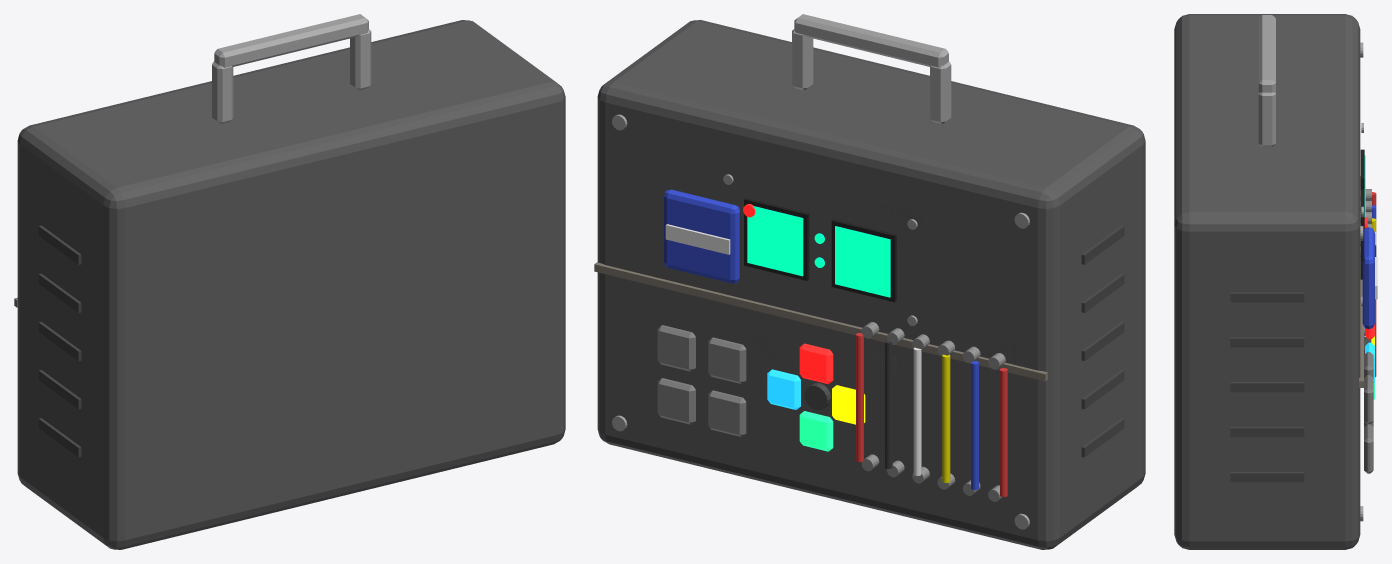
Rendered from KTANE BOMB.fbx.
The picture shows the model from 3 angles, left to right: view 1: azimuth 30°, elevation 25°; view 2: azimuth 150°, elevation 25°; view 3: azimuth 270°, elevation 25°; orthographic projection. The views are drawn at different scales.
Parts seen in each view (by area): view 1: Bomb_Body, Handle_Bar, Handle_Post_-0, Handle_Post_0; view 2: Bomb_Body, Button_Main, Bomb_Seam, Handle_Bar, Timer_Glow_-0, Timer_Glow_0, Keypad_Key_0, Keypad_Key_2, Keypad_Key_3, Keypad_Key_1, Timer_Display_-0, Timer_Display_0 (+13 smaller); view 3: Bomb_Body, Handle_Bar, Button_Main, Handle_Post_0, Vent_1_3, Vent_1_4, Vent_1_0, Vent_1_1, Vent_1_2, Keypad_Key_3, Keypad_Key_1, Bomb_Seam (+1 smaller).
Boxes of the visible parts, x1,y1,x2,y2 form: Bomb_Body: (17,20,565,549); Handle_Bar: (214,14,368,67); Handle_Post_-0: (212,61,233,124); Handle_Post_0: (350,29,371,90); Bomb_Body: (597,20,1145,549); Button_Main: (664,189,739,283); Bomb_Seam: (594,262,1047,381); Handle_Bar: (794,14,948,67); Timer_Glow_-0: (835,226,890,297); Timer_Glow_0: (747,206,803,276); Keypad_Key_0: (708,337,746,383); Keypad_Key_2: (708,390,746,436); Keypad_Key_3: (657,378,695,424); Keypad_Key_1: (657,325,695,371); Timer_Display_-0: (831,219,896,302); Timer_Display_0: (744,198,809,280); Bomb_Body: (1174,14,1360,549); Handle_Bar: (1258,15,1275,92); Button_Main: (1362,227,1374,329); Handle_Post_0: (1258,92,1275,147); Vent_1_3: (1230,337,1304,347); Vent_1_4: (1230,292,1304,302); Vent_1_0: (1230,472,1304,482); Vent_1_1: (1230,427,1304,437); Vent_1_2: (1230,382,1304,392); Keypad_Key_3: (1364,424,1373,473); Keypad_Key_1: (1364,375,1373,424); Bomb_Seam: (1359,176,1363,387).
Bounding box in the file's own units: 40.5 × 35.9 × 16.4.
